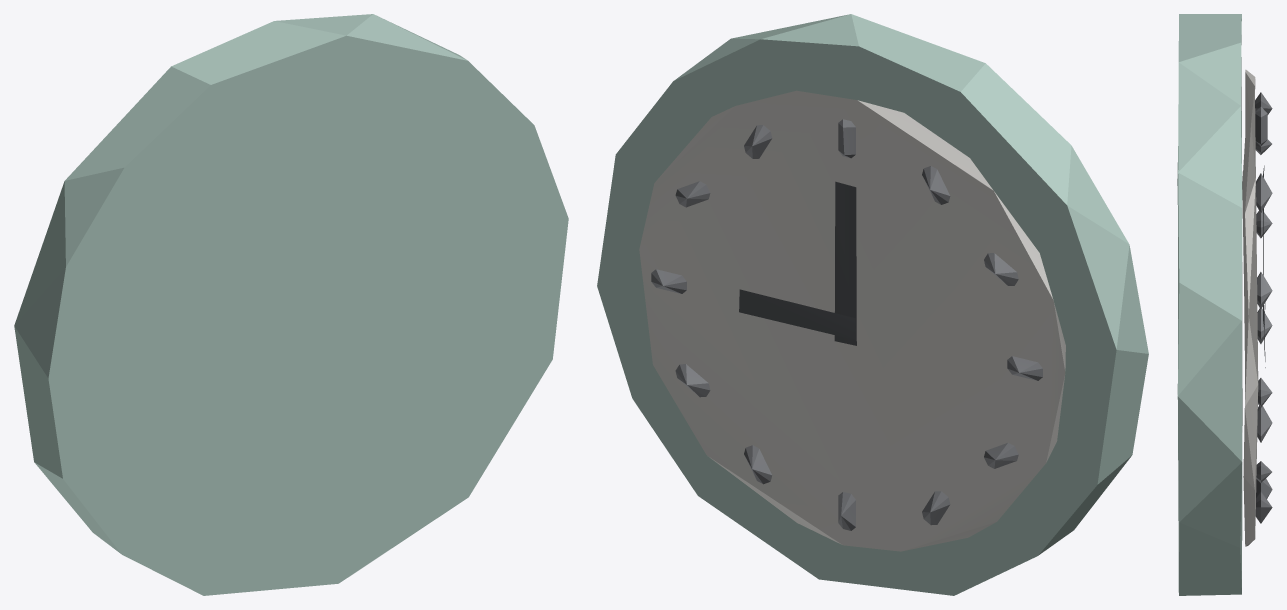
File: furn_wall_clock__mint_low.glb
3 views of the same model, side by side, from view 1: azimuth 30°, elevation 25°; view 2: azimuth 150°, elevation 25°; view 3: azimuth 270°, elevation 25° (orthographic). The views are drawn at different scales.
Bounding box in the file's own units: 0.4377 × 0.4378 × 0.0713.
